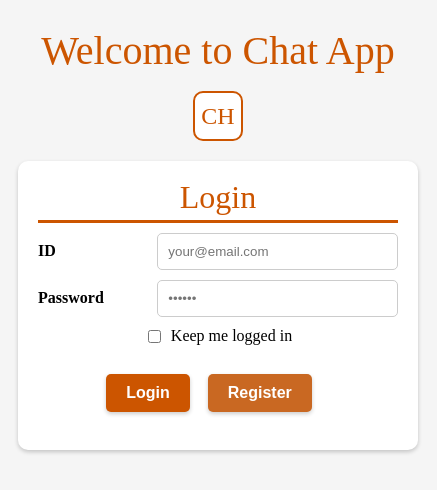
Login Component › handlePasswordOnChange clears password error message
In the field labelled "ID": (278, 251) [157, 232, 398, 270], type "user@email.com"
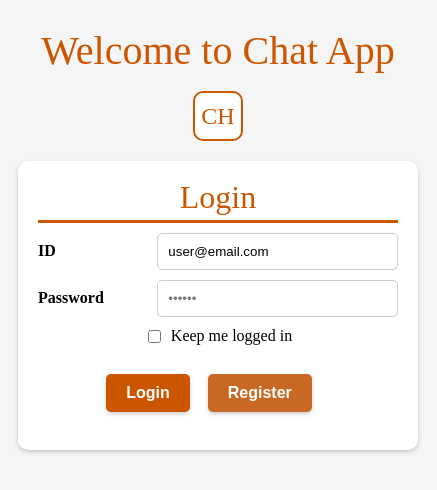
In the password field labelled "Password": (278, 298) [157, 280, 398, 316], type "b"
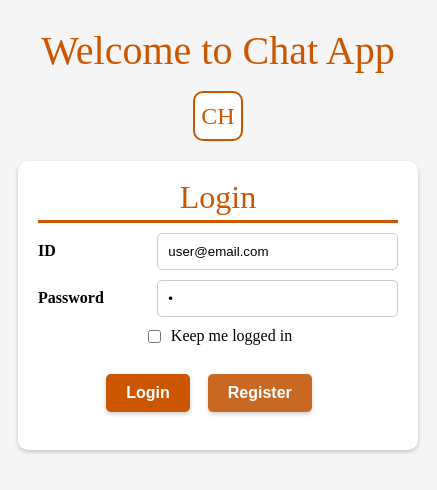
Click the button "Login": (148, 392) [106, 374, 190, 412]
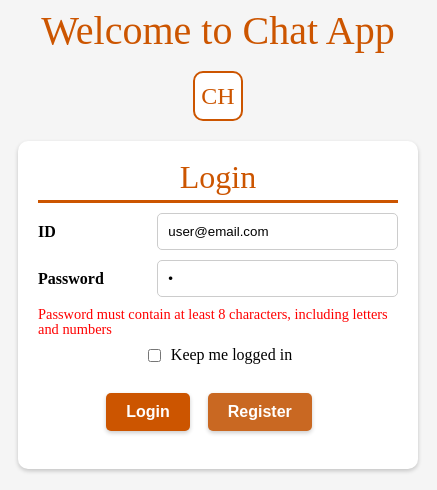
Now the text "Password must contain at least 8 characters, including letters and numbers" is shown, box [38, 307, 398, 336]
// update username input
In the password field labelled "Password": (278, 279) [157, 260, 398, 297], type "Password123"
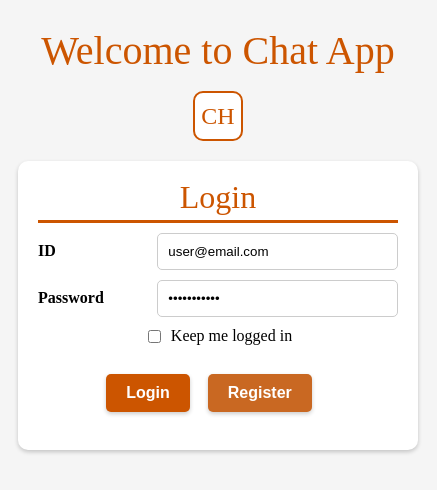
Now the text "Password must contain at least 8 characters, including letters and numbers" is gone
